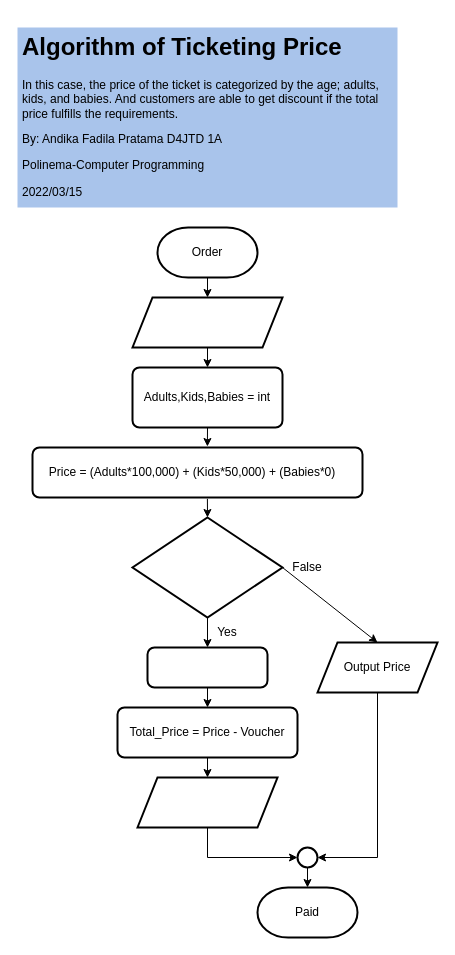
The diagram is 455 pixels wide and 955 high, and some of its shapes have lost their labels. The shapes that lost their labels are listed below. From the top down, each one's centre as x and y in pixels, then its label:
At [207,322]: "Input Adults,Kids,Babies".
At [207,567]: "If Price>500,000".
At [207,667]: "Voucher = 50,000".
At [207,802]: "Output Total_Price".
